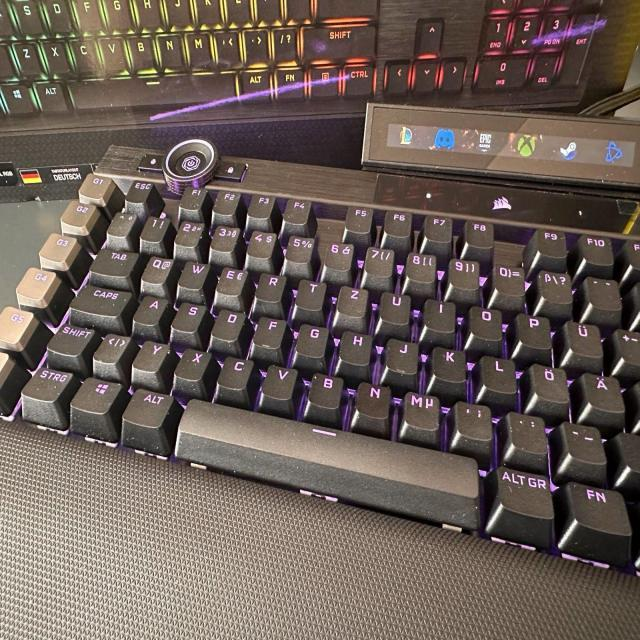0: (493, 261, 529, 300)
1: (139, 214, 169, 241)
2: (173, 219, 206, 250)
3: (208, 224, 240, 251)
4: (245, 229, 276, 258)
5: (284, 233, 315, 261)
6: (321, 241, 354, 271)
7: (363, 246, 394, 278)
8: (405, 251, 437, 283)
9: (447, 257, 481, 289)
a: (132, 294, 167, 325)
accent: (585, 275, 621, 313)
ae: (583, 372, 625, 412)
alt-left: (121, 386, 174, 429), (32, 78, 68, 111)
altgr-right: (497, 468, 556, 519), (239, 68, 271, 94)
b: (306, 372, 343, 408), (126, 33, 155, 68)
c: (215, 355, 254, 390), (69, 36, 103, 72)
caret: (105, 209, 136, 238)
comma: (453, 401, 493, 441)
d: (209, 308, 244, 342), (42, 0, 75, 33)
e: (213, 266, 248, 296)
f: (251, 315, 286, 348), (74, 2, 103, 31)
g: (293, 323, 328, 358), (107, 0, 133, 30)
h: (338, 329, 371, 364), (136, 0, 162, 29)
i: (423, 298, 456, 331)
j: (384, 337, 418, 374), (167, 0, 191, 27)
k: (431, 346, 466, 381)
keyboard: (1, 160, 639, 575), (2, 2, 606, 133)
l: (480, 354, 517, 392)
less: (91, 332, 132, 366)
m: (400, 391, 441, 436), (185, 30, 212, 65)
minus: (563, 422, 607, 463)
n: (354, 381, 391, 419), (155, 30, 183, 67)
o: (469, 305, 502, 339)
oe: (530, 363, 570, 402)
p: (516, 312, 553, 347)
plus: (613, 327, 639, 365)
point: (506, 411, 548, 456)
q: (139, 255, 174, 285)
r: (254, 271, 286, 301)
s: (11, 0, 47, 35), (169, 301, 206, 333)
shift-left: (45, 324, 95, 357)
shift-lock: (68, 284, 132, 317)
shift-right: (302, 23, 375, 60)
space: (171, 396, 482, 516), (67, 72, 238, 108)
ss: (537, 270, 573, 308)
strg-left: (20, 368, 76, 403)
strg-right: (342, 62, 373, 95)
t: (294, 277, 325, 310)
tab: (88, 247, 139, 276)
u: (379, 291, 410, 323)
ue: (566, 319, 603, 357)
v: (259, 364, 298, 399), (99, 34, 126, 69)
w: (177, 259, 209, 289)
x: (172, 347, 211, 381), (41, 38, 70, 73)
y: (131, 339, 169, 375)
z: (11, 39, 44, 75), (334, 284, 368, 317)
